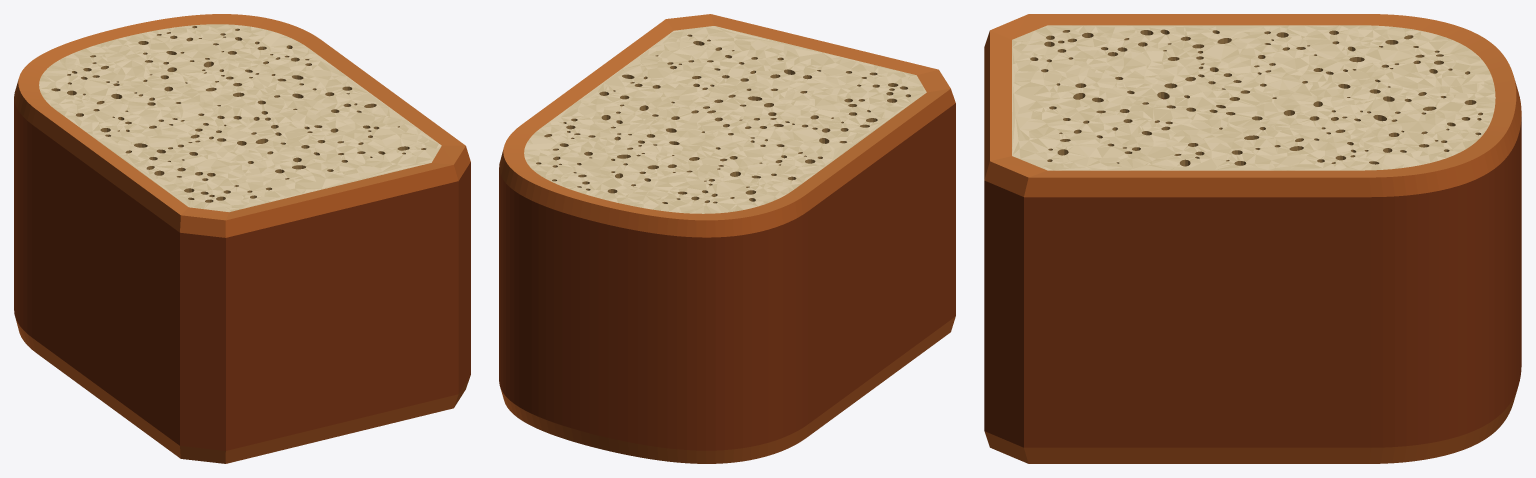
File: bread_slice.dae
The picture shows the model from 3 angles, left to right: view 1: azimuth 30°, elevation 25°; view 2: azimuth 150°, elevation 25°; view 3: azimuth 270°, elevation 25°; orthographic projection. The views are drawn at different scales.
Visible parts, largest first — view 1: crust-node, crust_edge-node, crust_bevel-node, crumb3-node, crumb2-node, crumb4-node, crumb1-node, crumb0-node, crumb6-node, crumb5-node, pore_wall-node; view 2: crust-node, crust_edge-node, crust_bevel-node, crumb3-node, crumb2-node, crumb4-node, crumb6-node, crumb0-node, crumb1-node, crumb5-node, pore_wall-node; view 3: crust-node, crust_edge-node, crust_bevel-node, crumb3-node, crumb2-node, crumb4-node, crumb1-node, crumb6-node, crumb0-node, crumb5-node, pore_wall-node.
Boxes of the visible parts, x1,y1,x2,y2 form: crust-node: [14, 67, 470, 450]; crust_edge-node: [14, 79, 470, 463]; crust_bevel-node: [18, 14, 465, 220]; crumb3-node: [39, 25, 441, 211]; crumb2-node: [43, 24, 440, 208]; crumb4-node: [39, 24, 429, 211]; crumb1-node: [41, 24, 439, 208]; crumb0-node: [39, 24, 438, 211]; crumb6-node: [39, 25, 441, 209]; crumb5-node: [39, 25, 437, 209]; pore_wall-node: [51, 26, 426, 202]; crust-node: [499, 103, 955, 450]; crust_edge-node: [499, 89, 955, 463]; crust_bevel-node: [503, 14, 950, 220]; crumb3-node: [524, 27, 926, 213]; crumb2-node: [527, 27, 906, 213]; crumb4-node: [530, 35, 922, 213]; crumb6-node: [524, 26, 910, 213]; crumb0-node: [526, 31, 923, 213]; crumb1-node: [525, 26, 924, 213]; crumb5-node: [525, 26, 925, 212]; pore_wall-node: [536, 34, 910, 203]; crust-node: [984, 98, 1521, 447]; crust_edge-node: [984, 31, 1521, 463]; crust_bevel-node: [990, 14, 1516, 177]; crumb3-node: [1012, 25, 1495, 170]; crumb2-node: [1012, 25, 1494, 170]; crumb4-node: [1012, 25, 1494, 170]; crumb1-node: [1012, 25, 1495, 170]; crumb6-node: [1012, 25, 1495, 170]; crumb0-node: [1012, 25, 1494, 170]; crumb5-node: [1012, 25, 1494, 170]; pore_wall-node: [1030, 29, 1482, 166].
Bounding box in the file's own units: 0.05 × 0.068 × 0.04.
